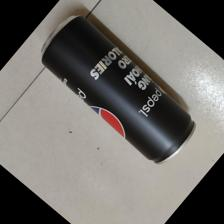Pepsi: (39, 13, 198, 168)
